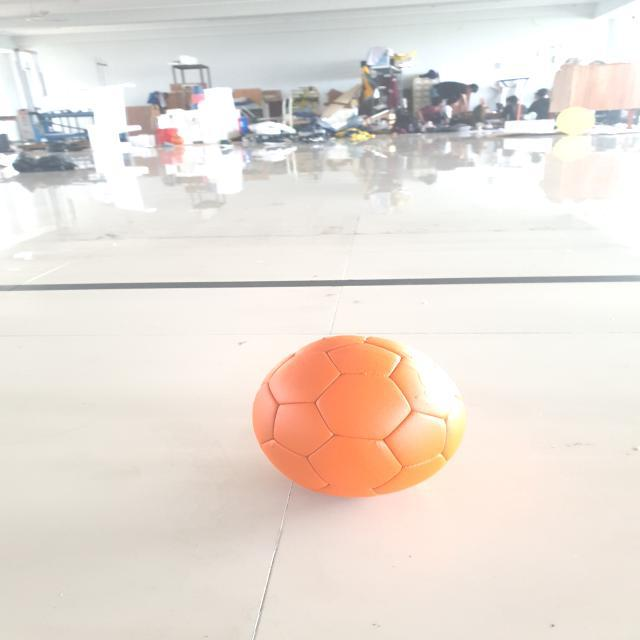bola: (250, 333, 474, 501)
